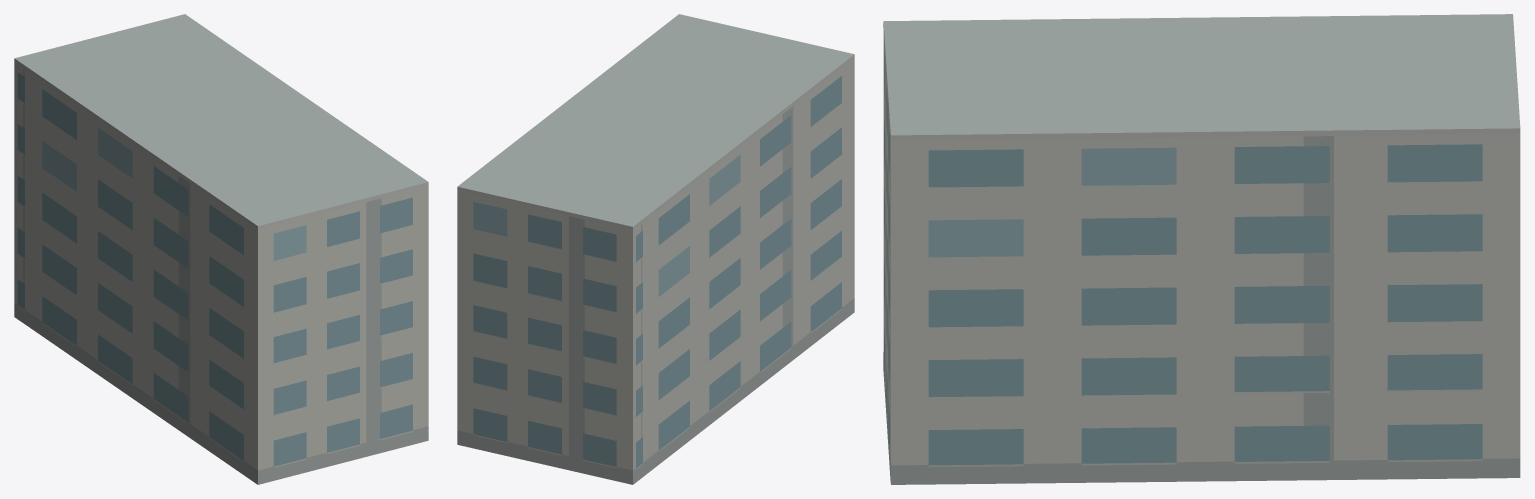
Rendered from residential-21a78a04-cef9-4717-88f9-39c5050dc248.glb.
3 views of the same model, side by side, from view 1: azimuth 30°, elevation 25°; view 2: azimuth 150°, elevation 25°; view 3: azimuth 270°, elevation 25° (orthographic). The views are drawn at different scales.
Parts seen in each view (by area): view 1: residential-21a78a04-cef9-4717-88f9-39c5050dc248.tmp; view 2: residential-21a78a04-cef9-4717-88f9-39c5050dc248.tmp; view 3: residential-21a78a04-cef9-4717-88f9-39c5050dc248.tmp.
Boxes of the visible parts, <box> form: residential-21a78a04-cef9-4717-88f9-39c5050dc248.tmp: <box>14,14,428,484</box>; residential-21a78a04-cef9-4717-88f9-39c5050dc248.tmp: <box>457,14,854,484</box>; residential-21a78a04-cef9-4717-88f9-39c5050dc248.tmp: <box>883,14,1520,484</box>.
Size of the model in its own units: 11.36 by 15.25 by 25.19.
